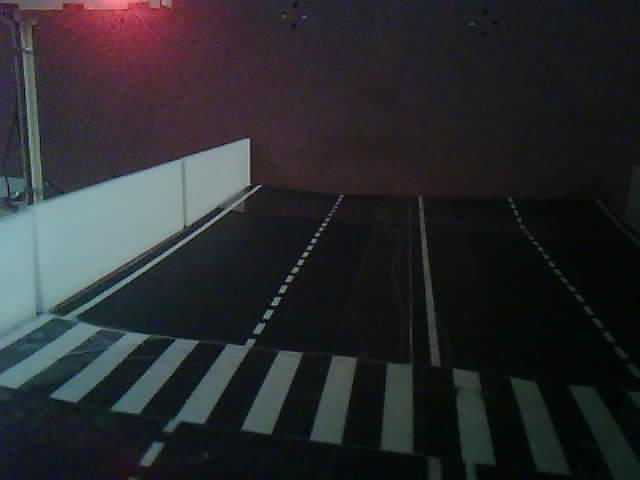crosswalk: (0, 289, 640, 480)
red: (23, 0, 200, 65)
